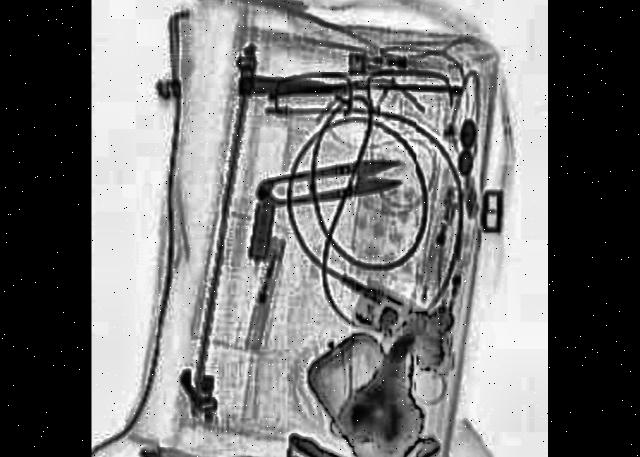Scissors: (257, 151, 402, 208)
